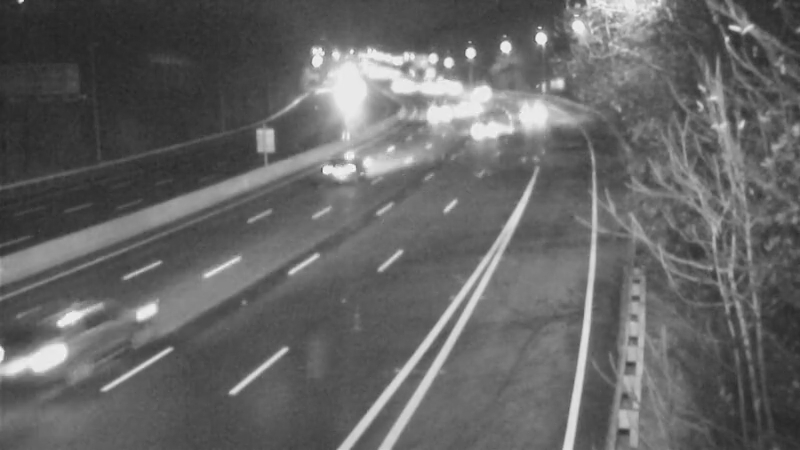vehicle: (1, 301, 106, 411), (301, 133, 381, 213), (444, 83, 494, 133), (505, 91, 555, 141), (415, 86, 465, 136), (463, 97, 513, 147)
